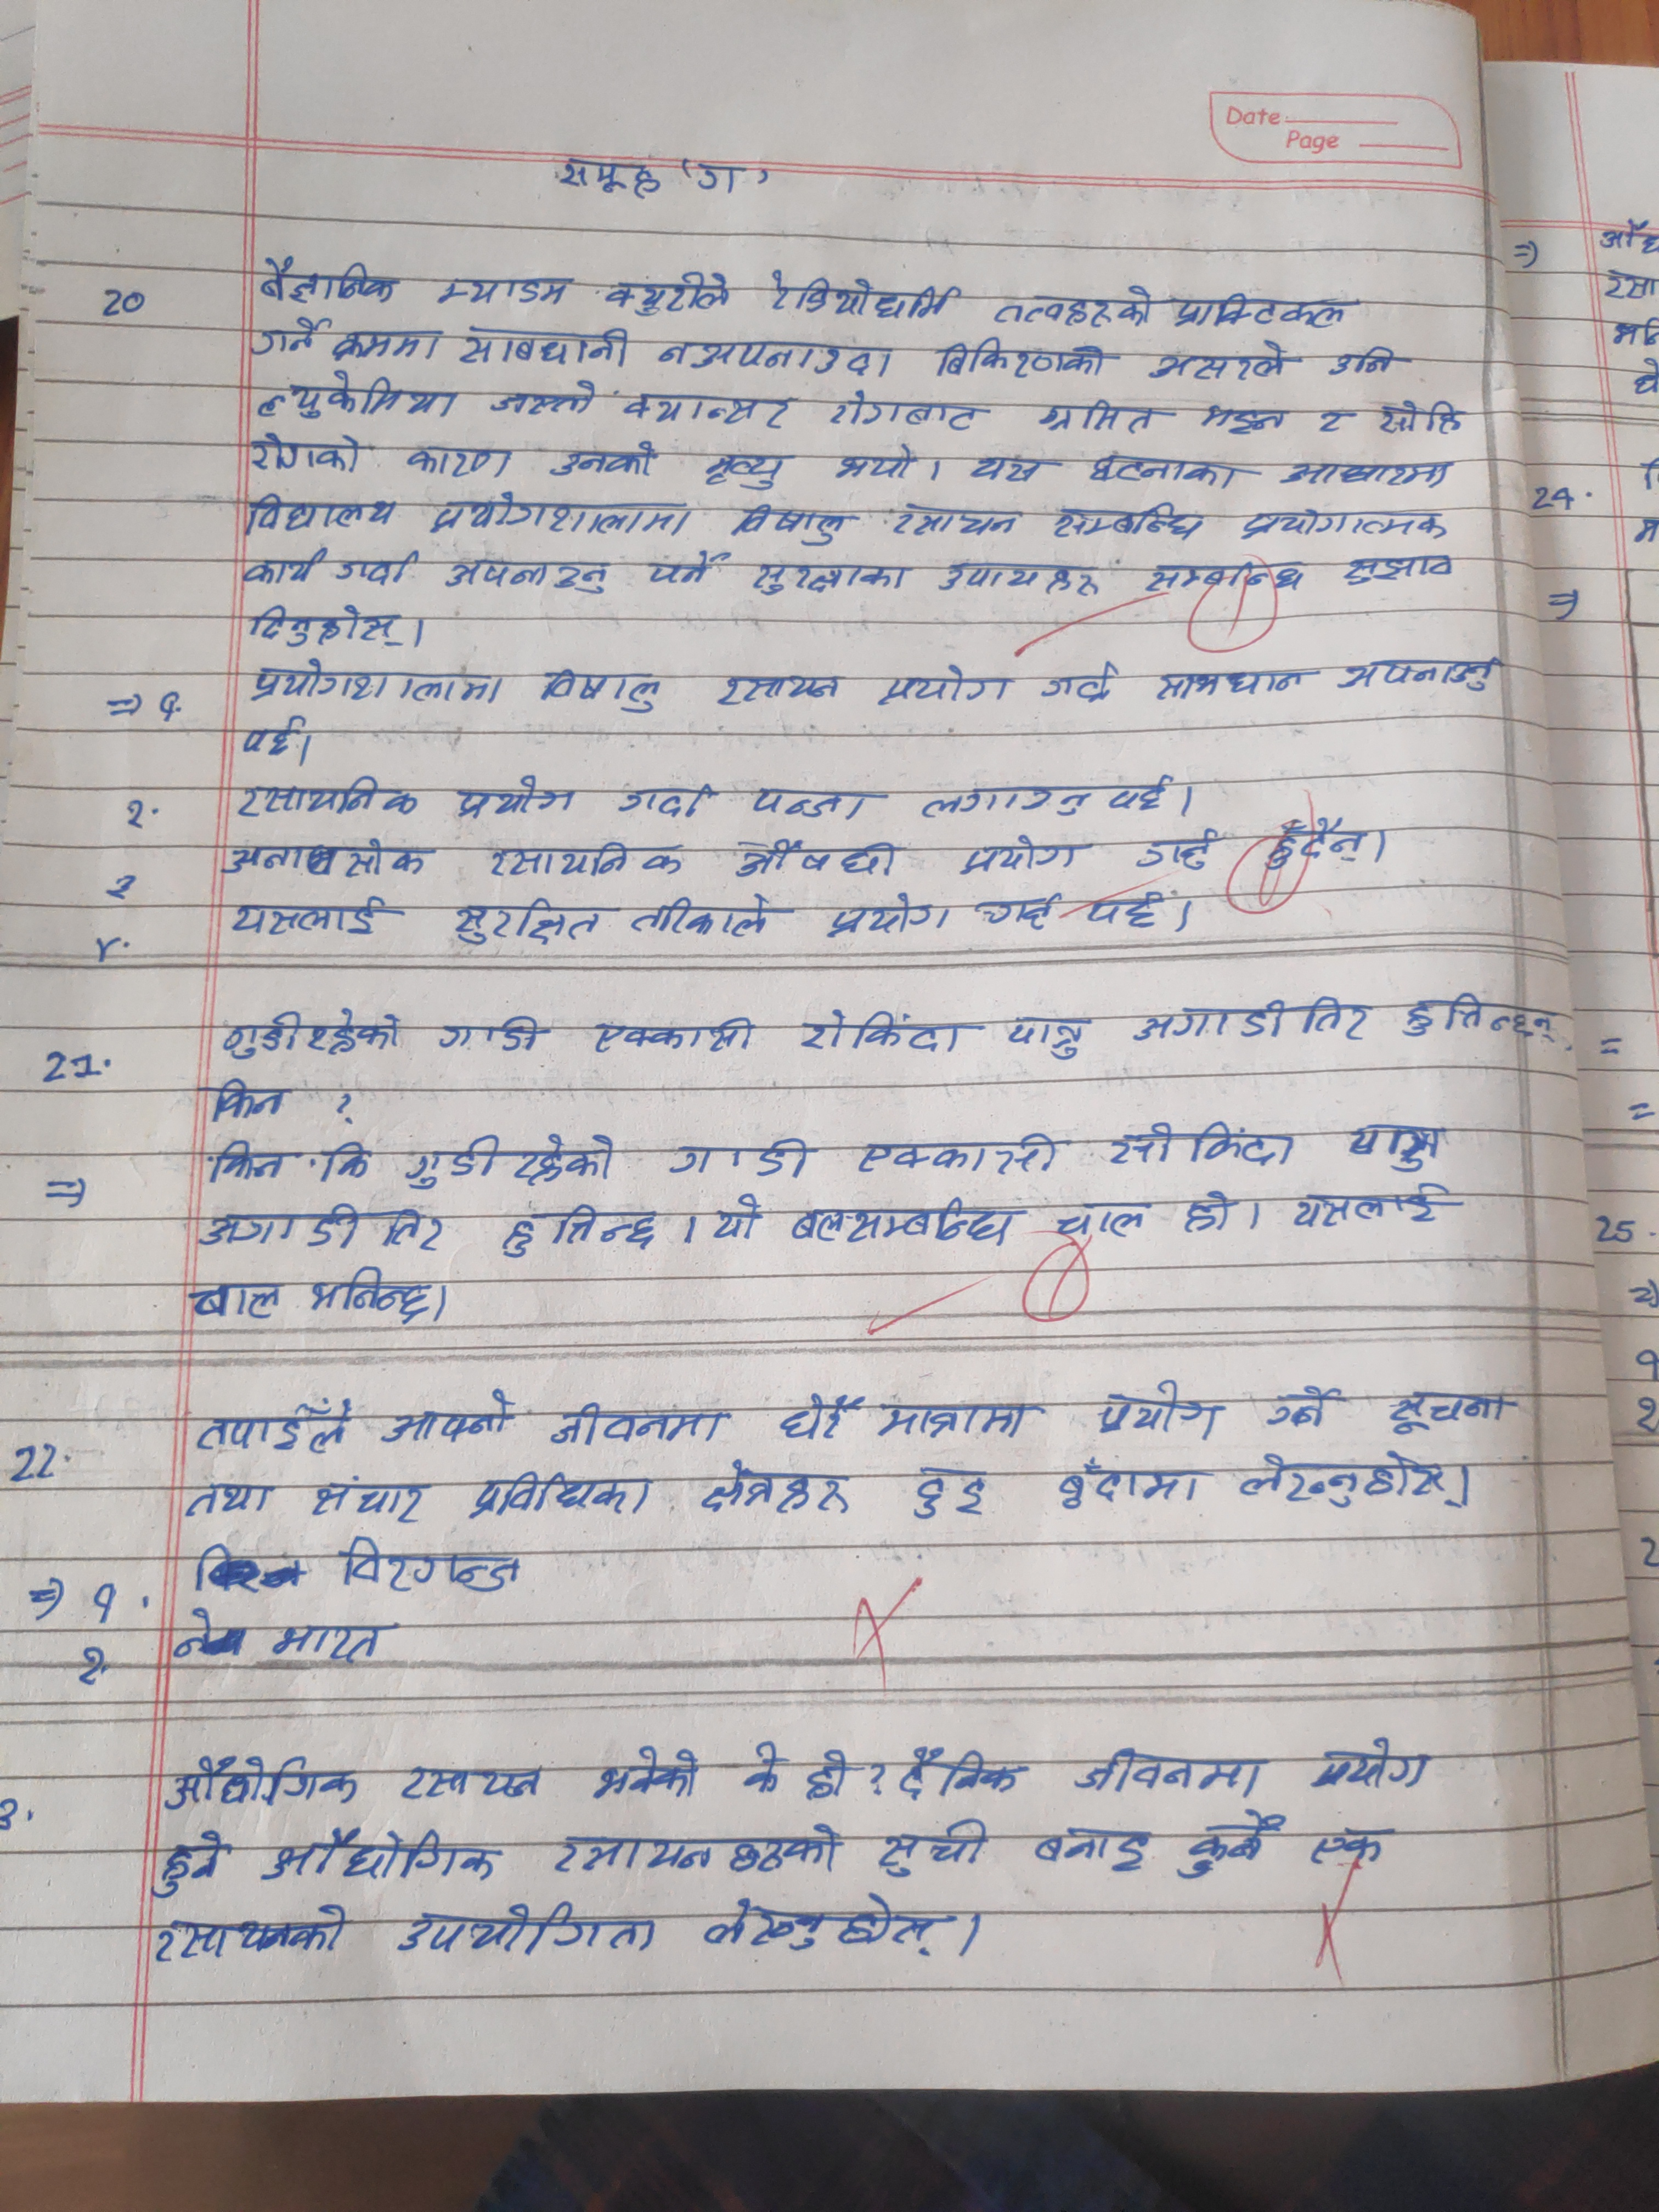text: (540, 1815, 849, 1888), (697, 1888, 960, 1965), (401, 1897, 666, 1961), (788, 1191, 1026, 1252), (423, 488, 701, 540), (244, 657, 504, 712), (261, 1827, 505, 1885), (918, 772, 1178, 826), (1129, 996, 1378, 1050), (648, 329, 904, 381), (756, 261, 964, 324), (1241, 1447, 1453, 1508), (1066, 1738, 1256, 1806), (159, 1749, 369, 1810), (148, 1907, 359, 1968), (854, 1125, 1070, 1184), (397, 1134, 617, 1191), (251, 362, 457, 423), (333, 1533, 525, 1595), (504, 1193, 666, 1263), (221, 1003, 401, 1066), (213, 833, 450, 880), (192, 1393, 357, 1460), (1105, 1118, 1300, 1174), (1286, 1179, 1462, 1238), (451, 315, 638, 371), (925, 334, 1112, 390), (870, 1388, 1044, 1447), (479, 833, 688, 881), (247, 249, 408, 312), (545, 1397, 737, 1449), (934, 550, 1105, 608), (892, 1737, 1035, 1804), (1399, 989, 1553, 1052), (692, 1458, 854, 1517), (300, 1251, 429, 1324), (1084, 442, 1253, 498), (746, 550, 915, 606), (1136, 547, 1305, 603), (1171, 284, 1358, 334), (1087, 1378, 1225, 1446), (450, 892, 610, 949), (798, 1007, 974, 1059), (230, 773, 425, 820), (228, 890, 401, 942), (465, 1468, 657, 1515), (193, 1200, 362, 1252), (985, 280, 1155, 331), (1234, 502, 1446, 542), (1382, 1381, 1520, 1442), (873, 1815, 993, 1885), (666, 1136, 819, 1190), (1335, 650, 1511, 697), (242, 596, 406, 646), (378, 1388, 521, 1446), (1277, 451, 1459, 496), (587, 1010, 765, 1055), (624, 387, 795, 434), (1173, 1810, 1283, 1883), (394, 1757, 552, 1808), (1044, 500, 1211, 547), (627, 897, 795, 944), (239, 489, 397, 538), (1147, 662, 1316, 707), (587, 1743, 706, 1808), (1030, 1818, 1159, 1878), (1316, 1742, 1448, 1799), (725, 838, 899, 881), (439, 556, 626, 596), (1056, 1458, 1208, 1507), (1150, 333, 1286, 387), (830, 388, 978, 437), (603, 268, 734, 320), (429, 1008, 558, 1061), (1344, 1109, 1448, 1172), (897, 1456, 995, 1522), (535, 665, 671, 712), (955, 831, 1091, 878), (242, 430, 368, 481), (889, 498, 1028, 543), (183, 1270, 289, 1329), (725, 502, 854, 550), (272, 1618, 410, 1663), (301, 1474, 434, 1521), (1025, 395, 1166, 439), (453, 772, 577, 820), (432, 272, 580, 312), (148, 1827, 232, 1897), (882, 665, 1014, 709), (713, 671, 849, 712), (552, 153, 664, 204), (1300, 1815, 1403, 1869), (331, 319, 448, 366), (830, 894, 957, 935), (772, 1386, 864, 1444), (549, 437, 659, 484), (749, 784, 887, 820), (1039, 651, 1124, 709), (1267, 817, 1370, 864), (828, 435, 920, 488), (486, 380, 599, 421), (972, 885, 1068, 934), (207, 1136, 300, 1186), (336, 538, 425, 590), (697, 451, 798, 496), (1054, 1197, 1159, 1240), (211, 1071, 295, 1125), (1194, 399, 1293, 444), (399, 441, 516, 479), (1004, 1012, 1098, 1059), (613, 780, 725, 819), (1342, 549, 1452, 587), (375, 1202, 450, 1258), (174, 1479, 281, 1517), (1134, 826, 1220, 873), (1267, 1381, 1338, 1433), (641, 550, 727, 594), (1084, 890, 1162, 937), (962, 451, 1056, 489), (310, 1134, 376, 1188), (247, 317, 333, 359), (237, 714, 303, 766), (735, 1738, 789, 1801), (800, 1742, 854, 1804), (1326, 341, 1410, 380), (237, 550, 328, 585), (1182, 1186, 1236, 1238), (716, 1195, 765, 1247), (695, 158, 751, 197), (1371, 395, 1420, 439), (1310, 401, 1347, 441)
